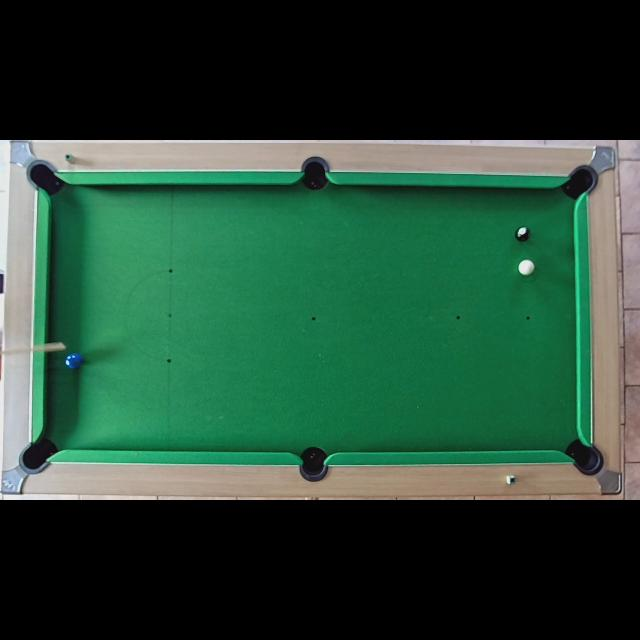Ball: (64, 352, 84, 370), (518, 260, 534, 276), (516, 226, 530, 242)
